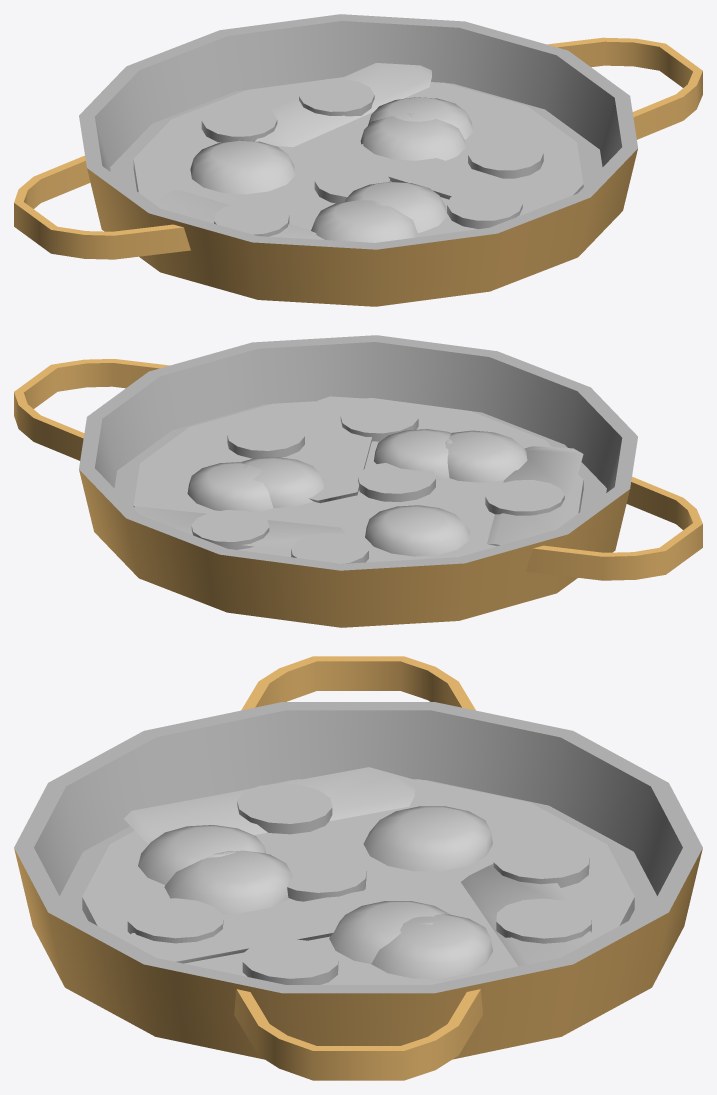
The model's file is Sahan.fbx.
3 renders of one model, top to bottom at view 1: azimuth 30°, elevation 25°; view 2: azimuth 150°, elevation 25°; view 3: azimuth 270°, elevation 25°, orthographic. The views are drawn at different scales.
Visible parts, largest first — view 1: Sahan, Fried-Egg-1, Fried-Egg-2, Fried-Egg-3; view 2: Sahan, Fried-Egg-1, Fried-Egg-2, Fried-Egg-3; view 3: Sahan, Fried-Egg-1, Fried-Egg-2, Fried-Egg-3.
Boxes of the visible parts, left/top/right/bottom form: Sahan: left=14, top=14, right=702, bottom=306; Fried-Egg-1: left=133, top=77, right=583, bottom=237; Fried-Egg-2: left=201, top=78, right=543, bottom=242; Fried-Egg-3: left=150, top=63, right=559, bottom=239; Sahan: left=14, top=335, right=702, bottom=627; Fried-Egg-1: left=133, top=398, right=583, bottom=562; Fried-Egg-2: left=191, top=401, right=564, bottom=563; Fried-Egg-3: left=133, top=396, right=583, bottom=550; Sahan: left=14, top=656, right=702, bottom=1080; Fried-Egg-1: left=82, top=779, right=634, bottom=984; Fried-Egg-2: left=127, top=783, right=591, bottom=984; Fried-Egg-3: left=124, top=767, right=595, bottom=966.
Size of the model in its own units: 0.3699 by 0.0344 by 0.2731.
